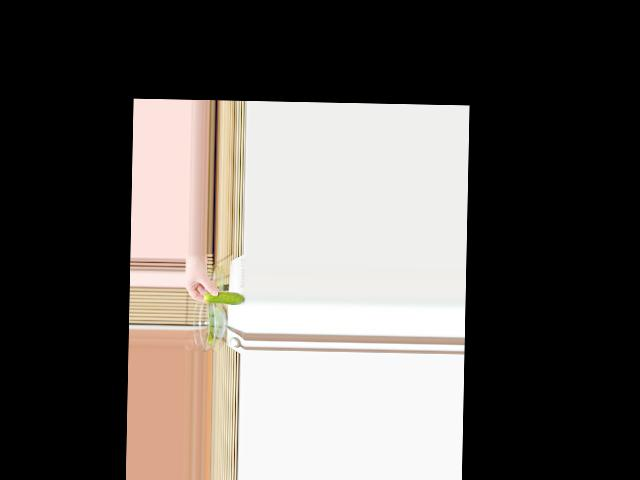cucumber: (203, 291, 244, 305)
